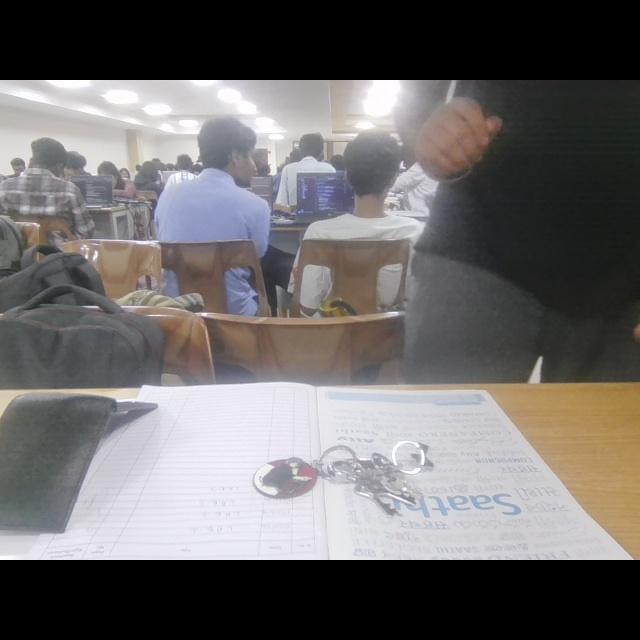keys: (246, 413, 458, 527)
wallet: (0, 367, 162, 539)
